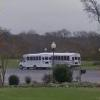Bus: (19, 48, 84, 70)
